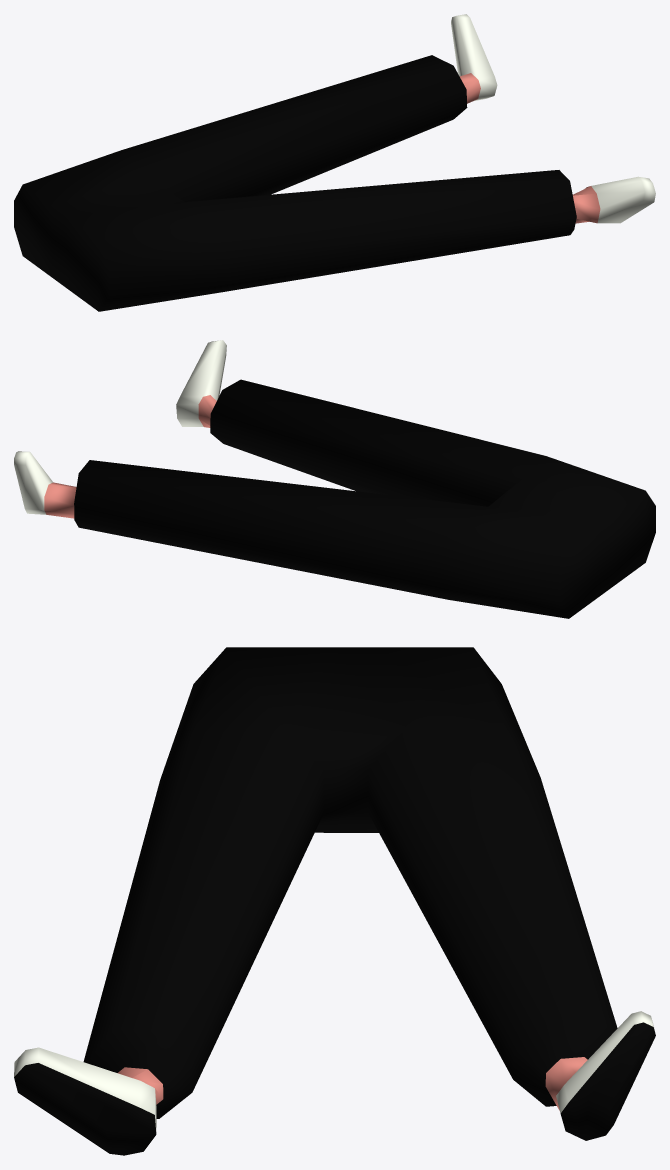
The model's file is deadlegs.fbx.
3 views of the same model, one above another, from view 1: azimuth 30°, elevation 25°; view 2: azimuth 150°, elevation 25°; view 3: azimuth 270°, elevation 25° (orthographic). The views are drawn at different scales.
Parts seen in each view (by area): view 1: dead_legs; view 2: dead_legs; view 3: dead_legs.
Part boxes in pixels (bbox=[...]): dead_legs: bbox=[14, 14, 655, 311]; dead_legs: bbox=[14, 340, 655, 618]; dead_legs: bbox=[14, 647, 655, 1155].
Bounding box in the file's own units: 569 × 96.54 × 389.
